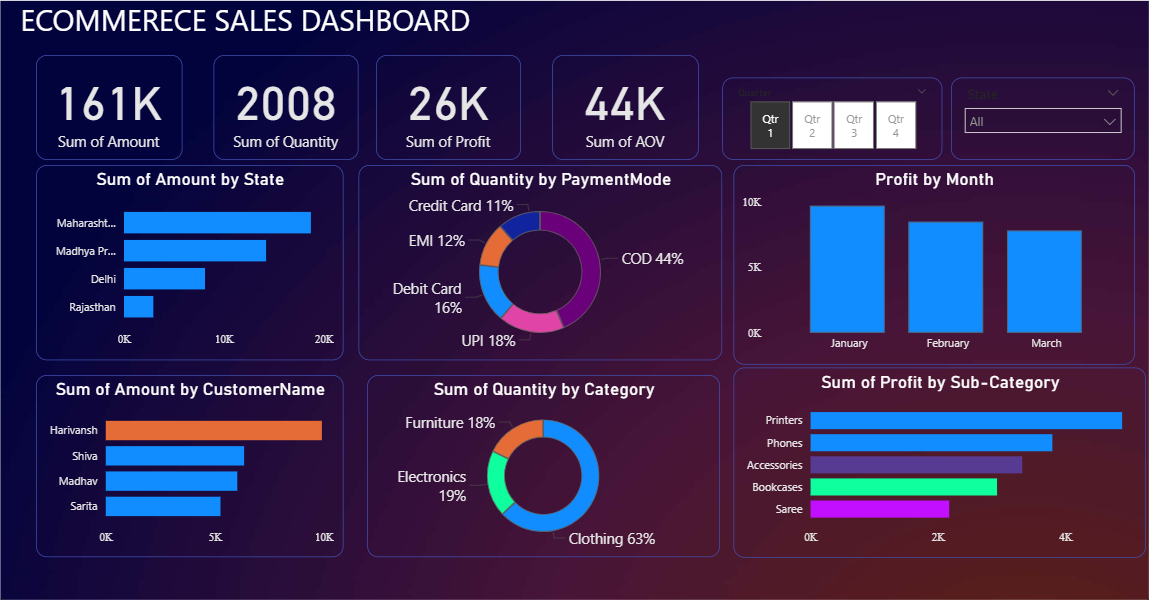

The page's visual inventory and layout, read from the dashboard file:
{"tool":"powerbi","page":{"name":"Page 1","canvas":[1280,720],"ordinal":0},"visuals":[{"type":"image","box":[0,11,1270.7,671],"z":0},{"type":"columnChart","title":" Profit by Month","fields":{"Category":["Orders.Order Date.Variation.Date Hierarchy.Month"],"Y":["Sum(Details.Profit)"]},"box":[809.6,197.6,440.5,219.6],"z":1000},{"type":"textbox","box":[22,11,514.6,65.9],"z":2000},{"type":"barChart","fields":{"Category":["Details.Sub-Category"],"Y":["Sum(Details.Profit)"]},"box":[809.6,419.9,452.8,208.6],"z":3000},{"type":"donutChart","fields":{"Category":["Details.Category"],"Y":["Sum(Details.Quantity)"]},"box":[407.5,428.1,387,200.3],"z":4000},{"type":"donutChart","fields":{"Category":["Details.PaymentMode"],"Y":["Sum(Details.Quantity)"]},"box":[397.9,197.6,399.3,214.1],"z":5000},{"type":"card","fields":{"Values":["Sum(Details.Amount)"]},"box":[43.9,76.8,160.5,115.3],"z":6000},{"type":"card","fields":{"Values":["Sum(Details.Quantity)"]},"box":[238.8,76.8,159.2,115.3],"z":7000},{"type":"card","fields":{"Values":["Sum(Details.Profit)"]},"box":[417.2,76.8,159.2,115.3],"z":8000},{"type":"card","fields":{"Values":["Sum(Details.AOV)"]},"box":[610.6,76.8,160.5,115.3],"z":9000},{"type":"barChart","fields":{"Category":["Orders.State"],"Y":["Sum(Details.Amount)"]},"box":[43.9,197.6,337.6,214.1],"z":10000},{"type":"barChart","fields":{"Category":["Orders.CustomerName"],"Y":["Sum(Details.Amount)"]},"box":[43.9,428.1,337.6,200.3],"z":11000},{"type":"slicer","fields":{"Values":["Orders.Order Date.Variation.Date Hierarchy.Quarter"]},"box":[797.3,101.5,241.5,90.6],"z":12000},{"type":"slicer","fields":{"Values":["Orders.State"]},"box":[1048.4,101.5,201.7,90.6],"z":13000}]}

Visuals, with their boxes on the page's 1280x720 design canvas (x1, y1, x2, y2). These are canvas units, not pixel positions in the 1151x602 screenshot, which may show the page scaled, cropped or inside an application window:
image: BBox(0, 11, 1271, 682)
" Profit by Month" columnChart: BBox(810, 198, 1250, 417)
textbox: BBox(22, 11, 537, 77)
barChart - Details.Sub-Category x Sum(Details.Profit): BBox(810, 420, 1262, 628)
donutChart - Details.Category x Sum(Details.Quantity): BBox(408, 428, 794, 628)
donutChart - Details.PaymentMode x Sum(Details.Quantity): BBox(398, 198, 797, 412)
card - Sum(Details.Amount): BBox(44, 77, 204, 192)
card - Sum(Details.Quantity): BBox(239, 77, 398, 192)
card - Sum(Details.Profit): BBox(417, 77, 576, 192)
card - Sum(Details.AOV): BBox(611, 77, 771, 192)
barChart - Orders.State x Sum(Details.Amount): BBox(44, 198, 382, 412)
barChart - Orders.CustomerName x Sum(Details.Amount): BBox(44, 428, 382, 628)
slicer - Orders.Order Date.Variation.Date Hierarchy.Quarter: BBox(797, 102, 1039, 192)
slicer - Orders.State: BBox(1048, 102, 1250, 192)
